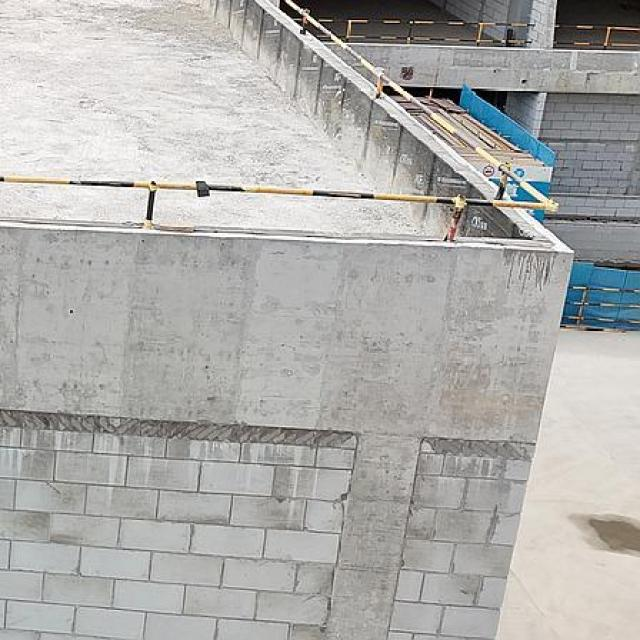Guardrail: (0, 0, 561, 243), (315, 17, 536, 47), (563, 284, 640, 326), (553, 24, 640, 50)
